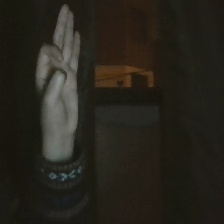F: (29, 3, 91, 139)
